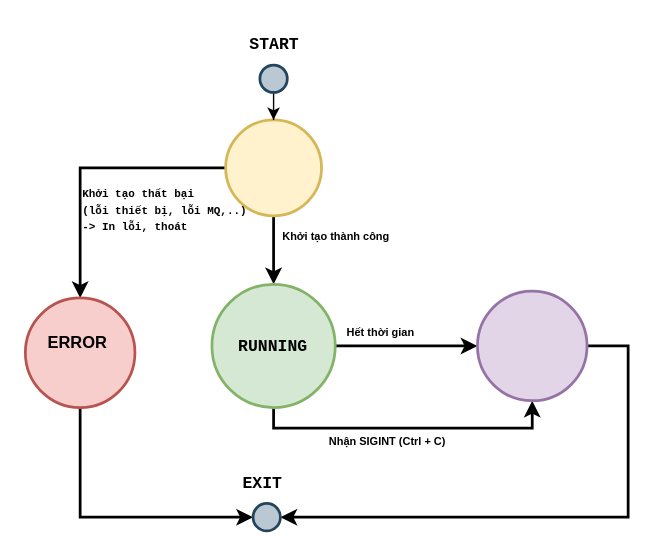
Some shapes in this 663 by 555 pixel diagram are drawn without their labels. The centre of each missing label's shape, as x and y in pixels:
"INIT" belongs at pixel 273 167.
"SHUTDOWN" belongs at pixel 531 345.
